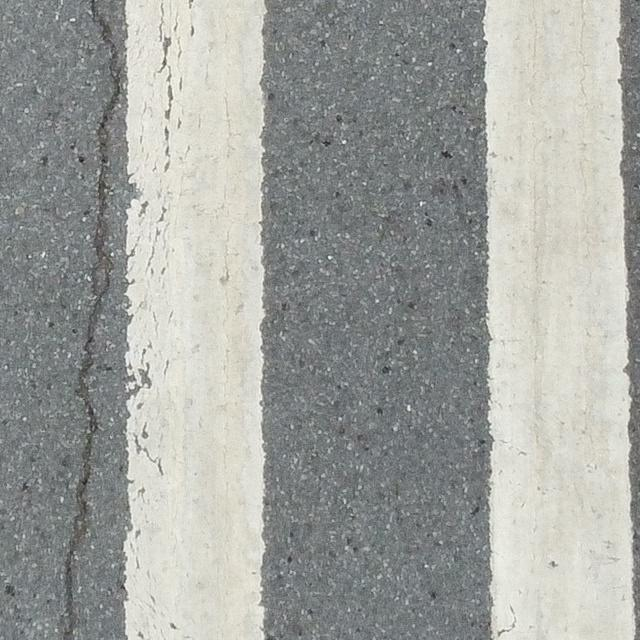LongitudinalCrack: (59, 1, 124, 640)
